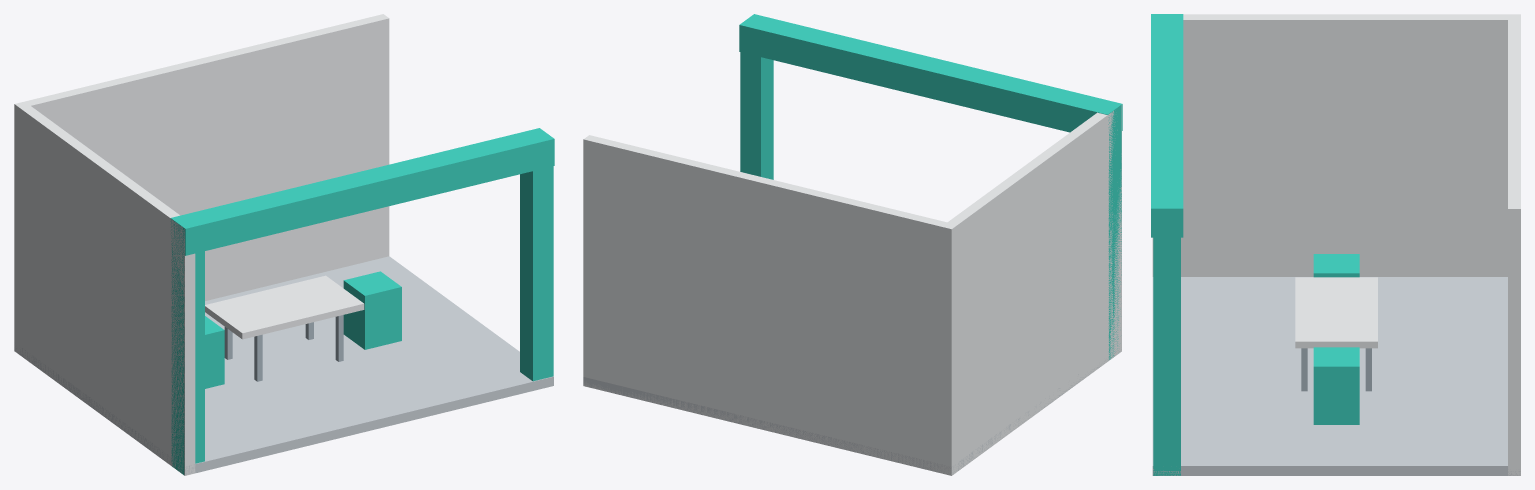
3 renders of one model, left to right at view 1: azimuth 30°, elevation 25°; view 2: azimuth 150°, elevation 25°; view 3: azimuth 270°, elevation 25°, orthographic. The views are drawn at different scales.
Parts seen in each view (by area): view 1: Exhibition Booth Concept; view 2: Exhibition Booth Concept; view 3: Exhibition Booth Concept.
Part boxes in pixels (bbox=[...]): Exhibition Booth Concept: bbox=[14, 14, 554, 475]; Exhibition Booth Concept: bbox=[583, 14, 1122, 475]; Exhibition Booth Concept: bbox=[1151, 14, 1520, 475].
Size of the model in its own units: 5 by 3.2 by 4.02.
